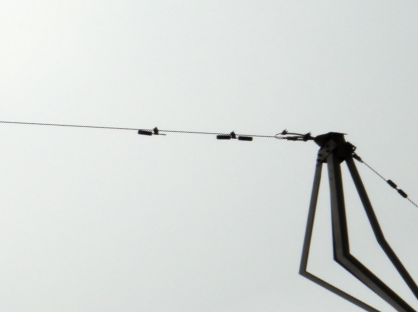damper: (214, 130, 254, 143), (385, 178, 408, 198)
damper_defect: (136, 126, 167, 137)
